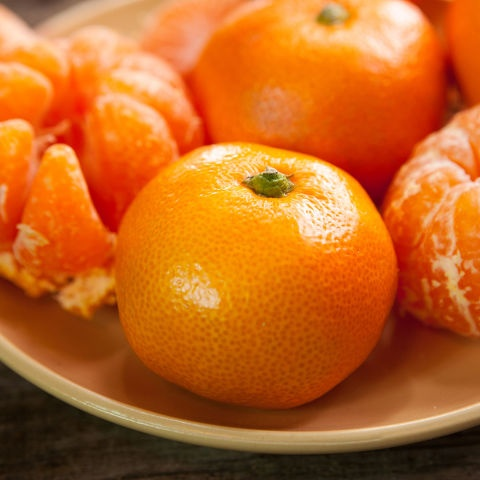mandarin: (114, 141, 399, 409), (1, 30, 197, 300), (197, 2, 444, 191), (380, 102, 480, 340)
